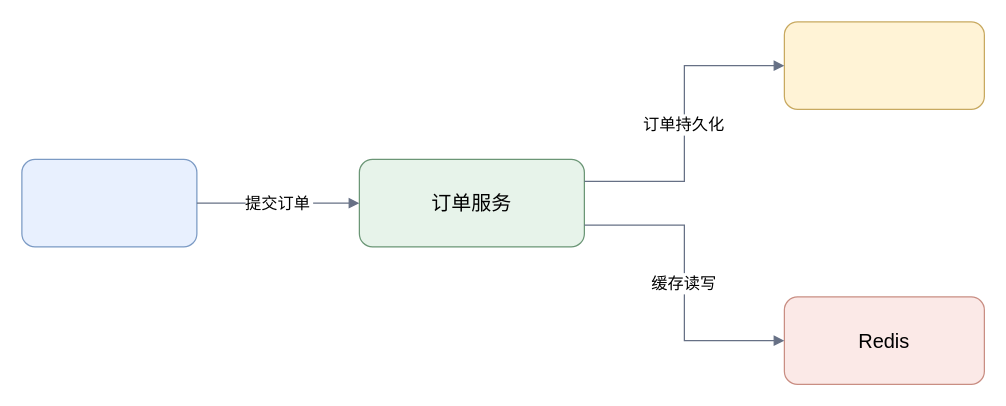
The diagram is 1006 pixels wide and 406 high, and some of its shapes have lost their labels. The shapes that lost their labels are listed below. From the top down, each one's centre as x and y in pixels, then its label:
At point 883,65: "MySQL".
At point 109,202: "用户".
